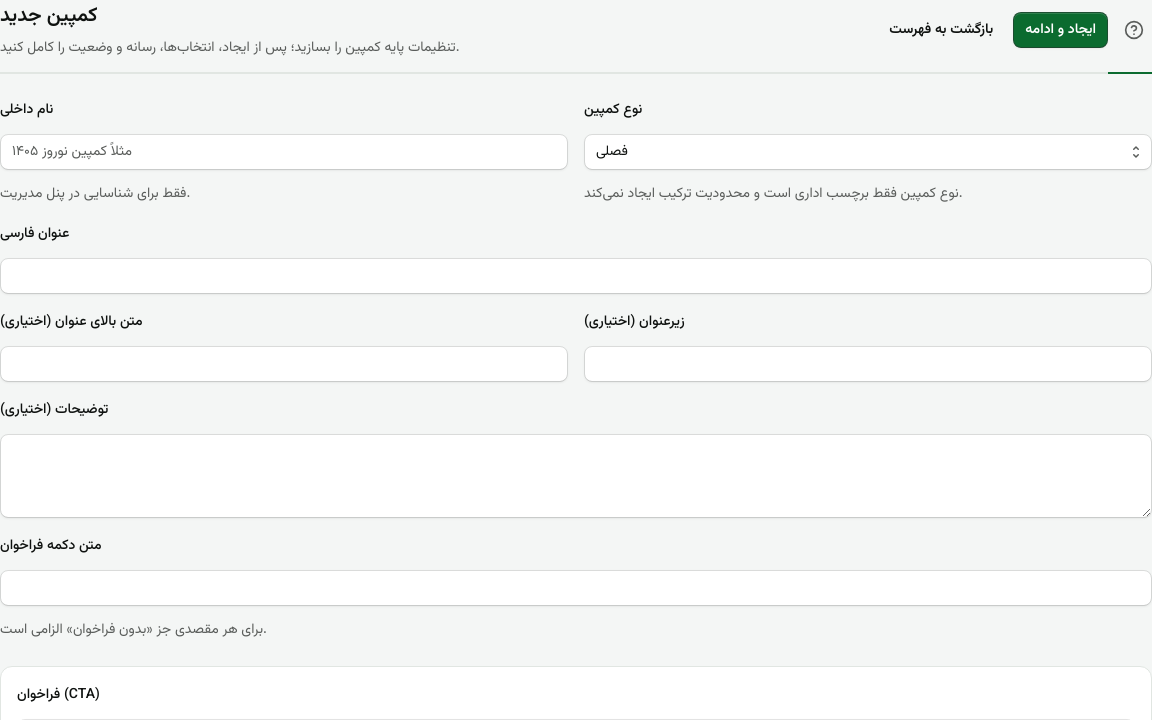
Test: MerchandisingCampaignEditorPage (SS-275) › blocks creation with missing required fields
Click the button "ایجاد و ادامه" at (1061, 30), box 1013,12 -> 1108,48
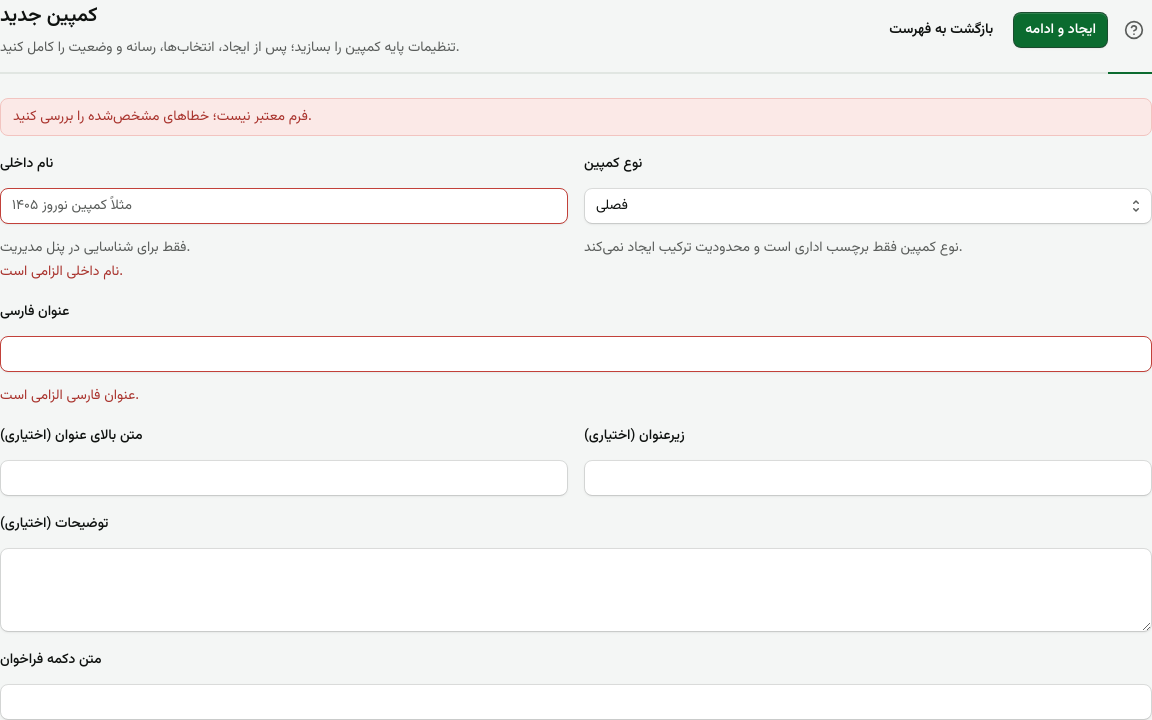
Expected: the text "نام داخلی الزامی است." is shown, 0,261 -> 123,283
Expected: the text "عنوان فارسی الزامی است." is shown, 0,385 -> 139,407
